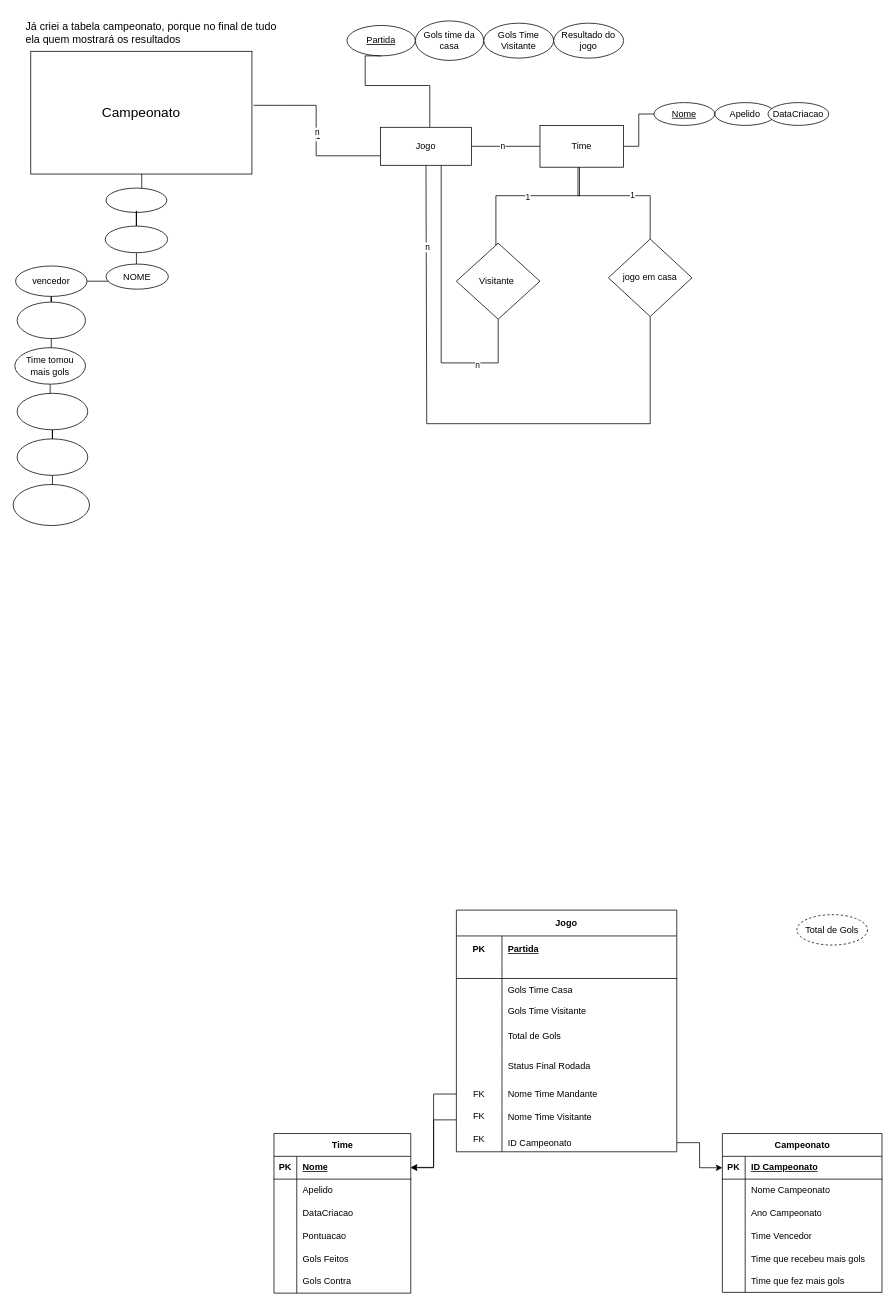
This 896x1306 diagram has some shape labels left out. The box of each missing label's shape, as (x1, y1, x2, y2) in pixels:
Ano: (104, 225, 168, 253)
ID: (105, 187, 167, 212)
Jogo c/ mais gols: (16, 393, 88, 430)
Time c/ mais gols no mesmo jogo: (12, 484, 90, 526)
Time fez mais gols: (16, 301, 86, 339)
